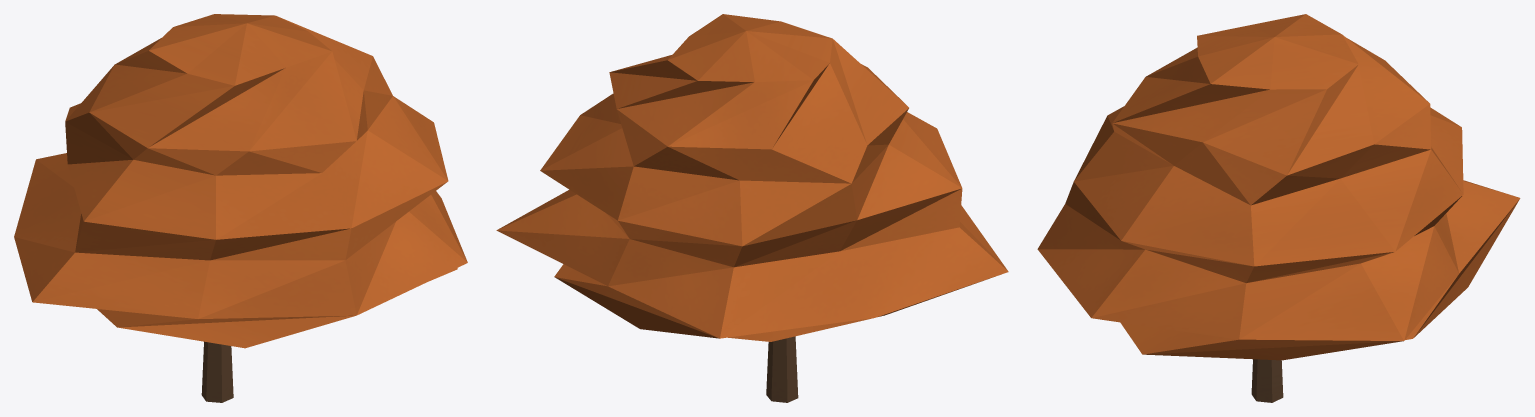
File: far_maple.fbx
3 views of the same model, side by side, from view 1: azimuth 30°, elevation 25°; view 2: azimuth 150°, elevation 25°; view 3: azimuth 270°, elevation 25° (orthographic). The views are drawn at different scales.
Visible parts, largest first — view 1: far_maple__Card; view 2: far_maple__Card; view 3: far_maple__Card.
Boxes of the visible parts, x1,y1,x2,y2 form: far_maple__Card: (14,14,467,402); far_maple__Card: (496,14,1008,402); far_maple__Card: (1037,14,1520,402).
Bounding box in the file's own units: 51.26 × 41.43 × 48.31.
1 material, 1 textured.
